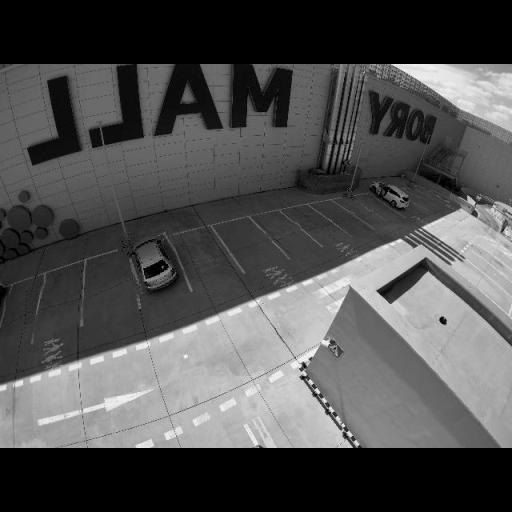busy: (126, 233, 180, 293), (366, 184, 413, 210)
free: (40, 280, 82, 328), (86, 265, 135, 303), (1, 292, 36, 335), (180, 244, 226, 274), (230, 232, 272, 261), (271, 223, 302, 244), (350, 202, 372, 218), (299, 216, 325, 229), (363, 200, 384, 212), (329, 212, 349, 222), (424, 193, 440, 201), (410, 198, 426, 205)
